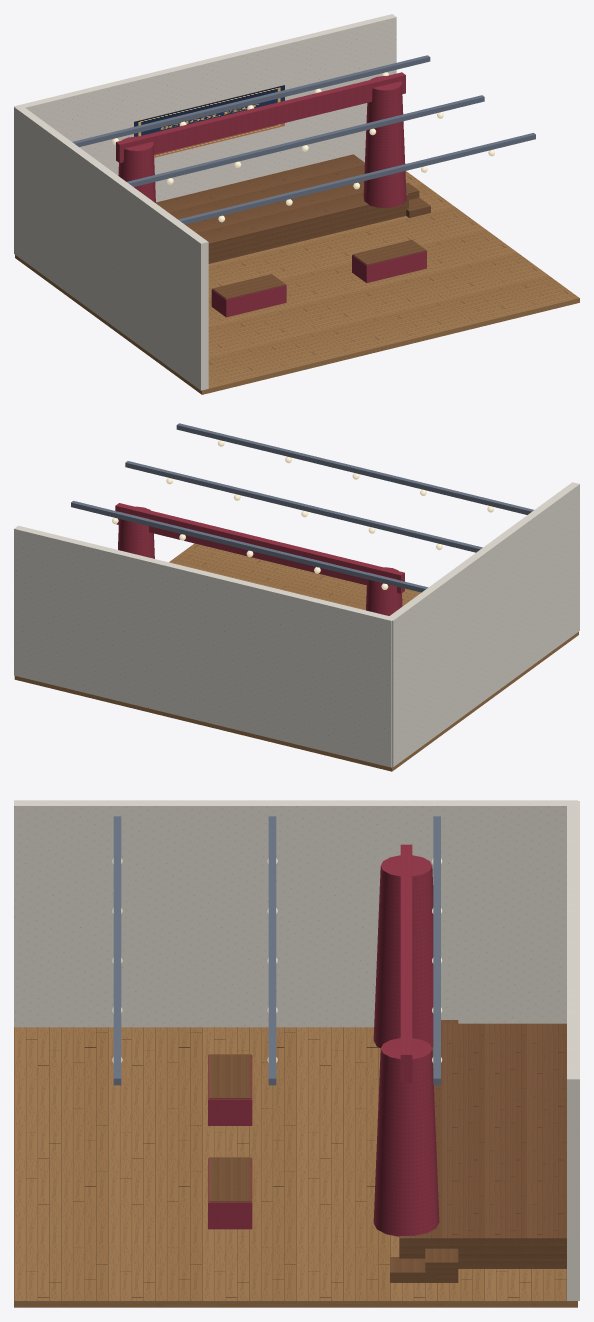
The model's file is ch5_env_school_aula.glb.
3 views of the same model, one above another, from view 1: azimuth 30°, elevation 25°; view 2: azimuth 150°, elevation 25°; view 3: azimuth 270°, elevation 25° (orthographic). The views are drawn at different scales.
Parts seen in each view (by area): view 1: ch5_env_school_aula; view 2: ch5_env_school_aula; view 3: ch5_env_school_aula.
Part boxes in pixels (left/top/right/bottom): ch5_env_school_aula: left=14, top=14, right=579, bottom=394; ch5_env_school_aula: left=14, top=423, right=579, bottom=771; ch5_env_school_aula: left=14, top=800, right=579, bottom=1307.
Size of the model in its own units: 14.04 by 5.36 by 12.04.
Materials: 7 (5 with a texture image).
